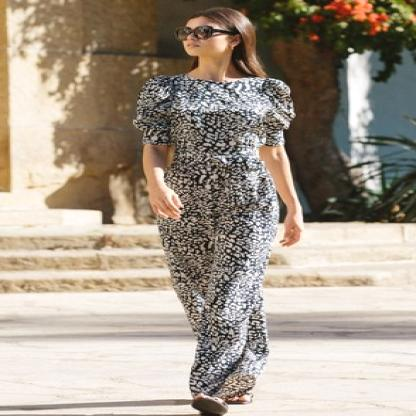dress: (124, 68, 332, 408)
jean: (110, 3, 336, 415)
